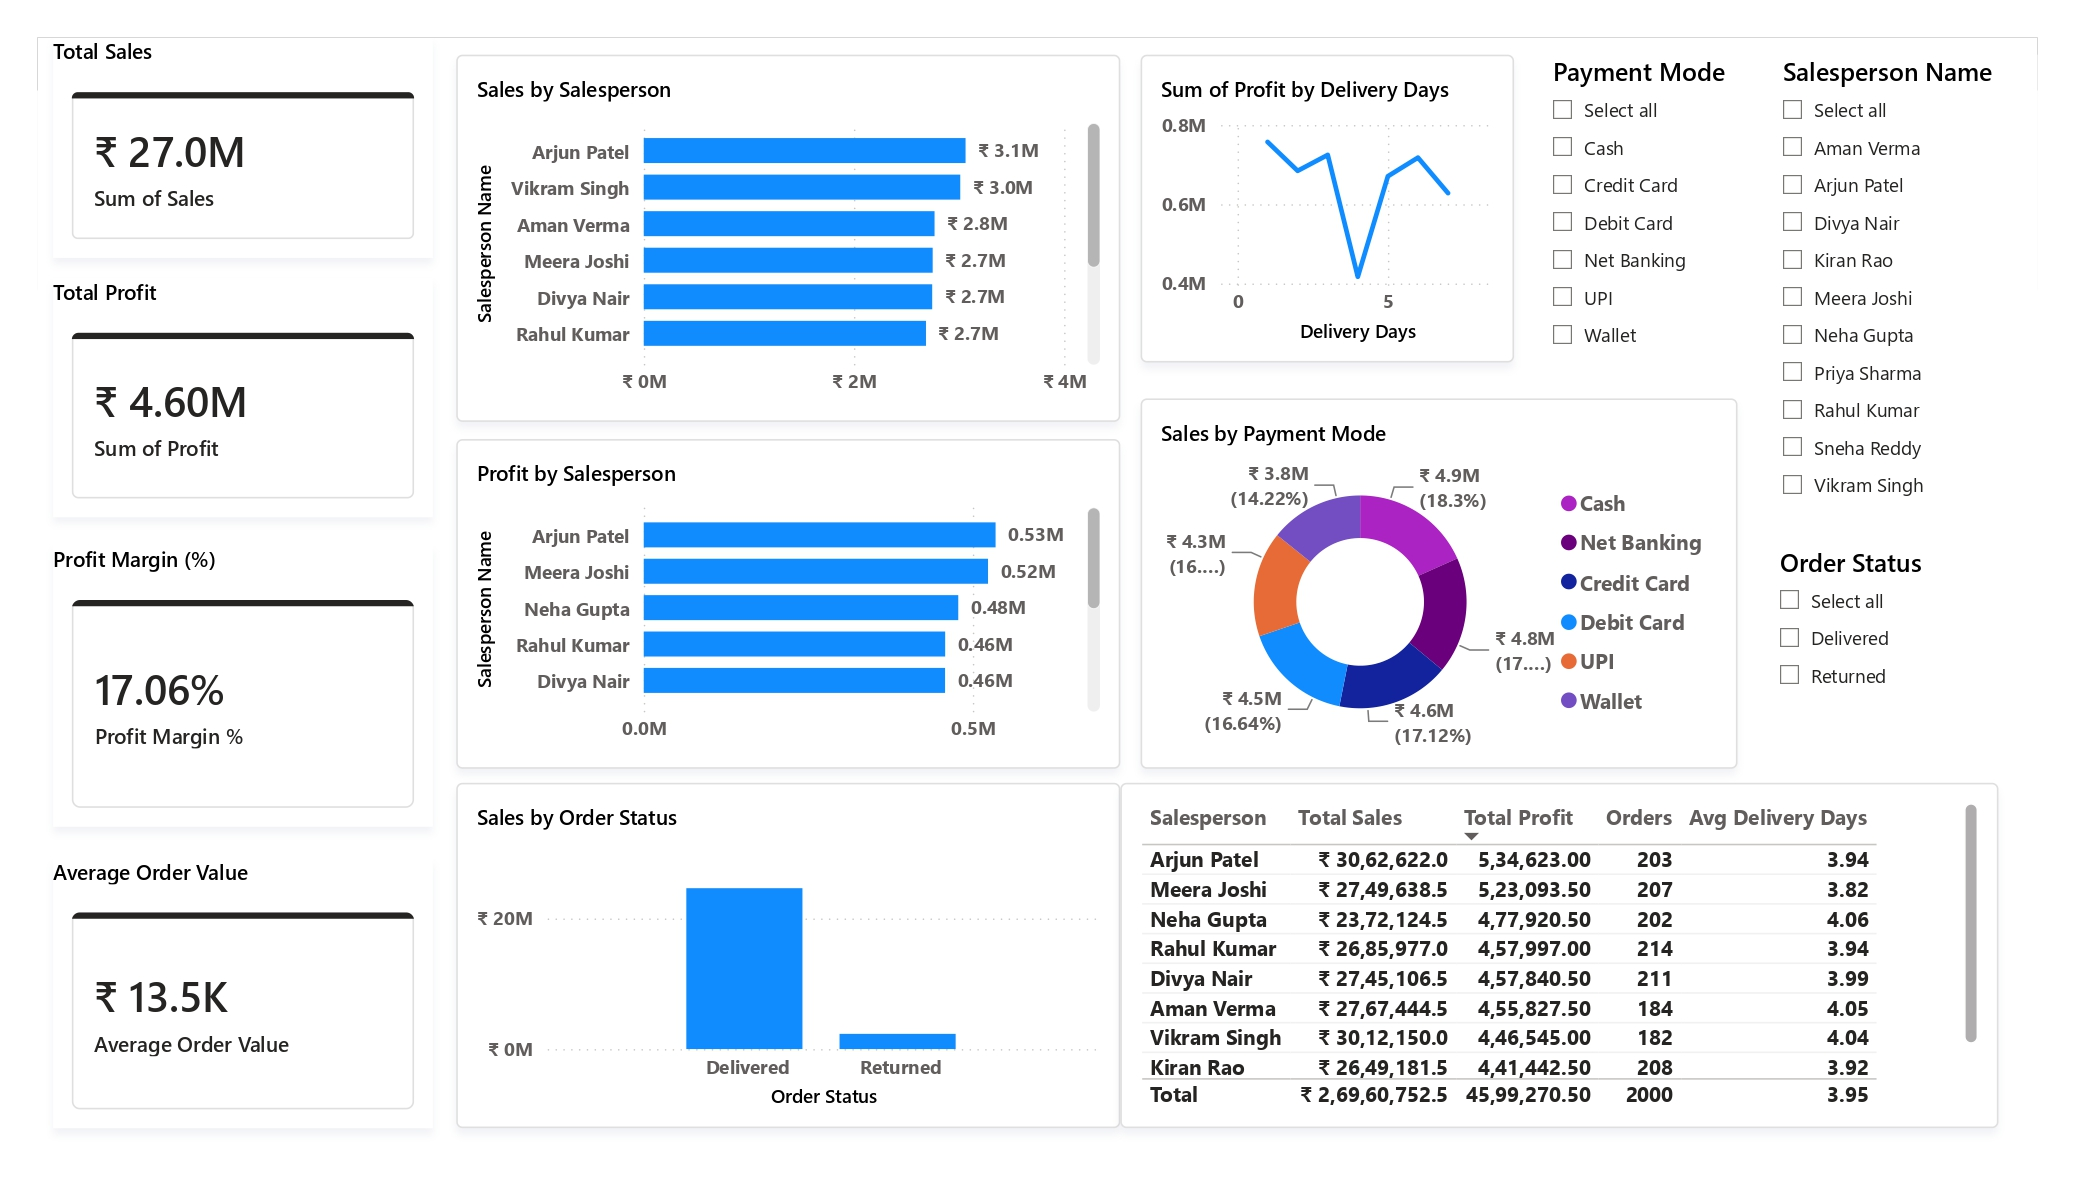

Layout of this report page (visuals, bound fields, positions):
{"tool":"powerbi","page":{"name":"Sales Performance Analysis","canvas":[1280,720],"ordinal":4},"visuals":[{"type":"cardVisual","title":"Total Sales","fields":{"Data":["Sum(Orders.Sales)"]},"box":[9.8,0,243.3,140.6],"z":0},{"type":"cardVisual","title":"Total Profit","fields":{"Data":["Sum(Orders.Profit)"]},"box":[9.8,154.1,243.3,152.9],"z":1000},{"type":"cardVisual","title":"Profit Margin (%)","fields":{"Data":["Customers.Profit Margin %"]},"box":[9.8,325.3,243.3,179.8],"z":2000},{"type":"cardVisual","title":"Average Order Value","fields":{"Data":["Customers.Average Order Value"]},"box":[9.8,524.6,243.3,173.6],"z":3000},{"type":"clusteredBarChart","title":"Sales by Salesperson","fields":{"Category":["Salespersons.Salesperson Name"],"Y":["Sum(Orders.Sales)"]},"box":[267.8,11,425.5,234.8],"z":4000},{"type":"clusteredBarChart","title":"Profit by Salesperson","fields":{"Category":["Salespersons.Salesperson Name"],"Y":["Sum(Orders.Profit)"]},"box":[267.8,256.8,425.5,211.6],"z":5000},{"type":"donutChart","title":"Sales by Payment Mode","fields":{"Category":["PaymentModes.Payment Mode"],"Y":["Sum(Orders.Sales)"]},"box":[705.6,231.1,382.7,237.2],"z":6000},{"type":"columnChart","title":"Sales by Order Status","fields":{"Category":["Orders.Order Status"],"Y":["Sum(Orders.Sales)"]},"box":[267.8,476.9,425.5,221.3],"z":7000},{"type":"lineChart","fields":{"Category":["Orders.Delivery Days"],"Y":["Sum(Orders.Profit)"]},"box":[705.6,11,239.7,196.9],"z":8000},{"type":"tableEx","fields":{"Values":["Salespersons.Salesperson Name","Sum(Orders.Sales)","Sum(Orders.Profit)","Orders.Order ID","Avg(Orders.Delivery Days)"]},"box":[693.3,476.9,561.3,221.3],"z":9000},{"type":"slicer","fields":{"Values":["PaymentModes.Payment Mode"]},"box":[962.4,11,144.3,196.9],"z":10000},{"type":"slicer","fields":{"Values":["Orders.Order Status"]},"box":[1106.7,325.3,117.4,123.5],"z":11000},{"type":"slicer","fields":{"Values":["Salespersons.Salesperson Name"]},"box":[1109.1,11,171.2,291],"z":12000}]}

Visuals, with their boxes on the page's 1280x720 design canvas (x1, y1, x2, y2). These are canvas units, not pixel positions in the 2075x1200 screenshot, which may show the page scaled, cropped or inside an application window:
"Total Sales" cardVisual: x1=10, y1=0, x2=253, y2=141
"Total Profit" cardVisual: x1=10, y1=154, x2=253, y2=307
"Profit Margin (%)" cardVisual: x1=10, y1=325, x2=253, y2=505
"Average Order Value" cardVisual: x1=10, y1=525, x2=253, y2=698
"Sales by Salesperson" clusteredBarChart: x1=268, y1=11, x2=693, y2=246
"Profit by Salesperson" clusteredBarChart: x1=268, y1=257, x2=693, y2=468
"Sales by Payment Mode" donutChart: x1=706, y1=231, x2=1088, y2=468
"Sales by Order Status" columnChart: x1=268, y1=477, x2=693, y2=698
lineChart - Orders.Delivery Days x Sum(Orders.Profit): x1=706, y1=11, x2=945, y2=208
tableEx - Salespersons.Salesperson Name x Sum(Orders.Sales): x1=693, y1=477, x2=1255, y2=698
slicer - PaymentModes.Payment Mode: x1=962, y1=11, x2=1107, y2=208
slicer - Orders.Order Status: x1=1107, y1=325, x2=1224, y2=449
slicer - Salespersons.Salesperson Name: x1=1109, y1=11, x2=1280, y2=302
